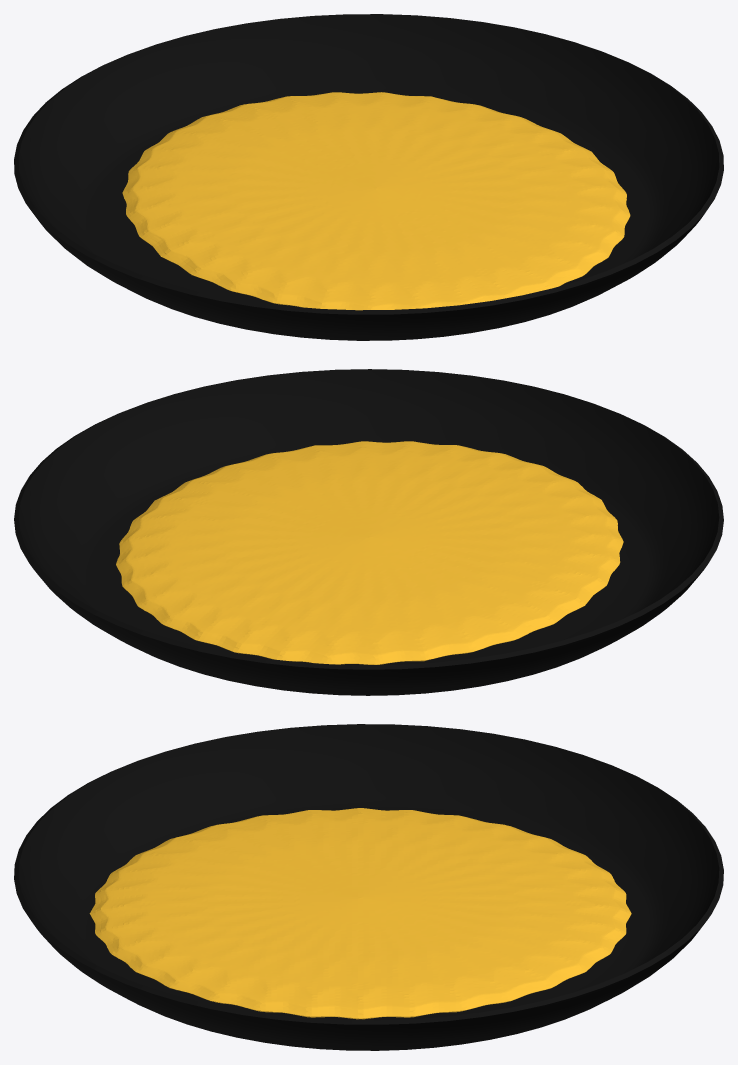
The model's file is Ovos Mexidos.fbx.
3 views of the same model, one above another, from view 1: azimuth 30°, elevation 25°; view 2: azimuth 150°, elevation 25°; view 3: azimuth 270°, elevation 25° (orthographic).
Parts seen in each view (by area): view 1: Pan, Cylinder; view 2: Pan, Cylinder; view 3: Pan, Cylinder.
Boxes of the visible parts, x1,y1,x2,y2 form: Pan: (14,14,723,340); Cylinder: (122,92,630,310); Pan: (14,369,723,695); Cylinder: (116,441,623,664); Pan: (14,724,723,1050); Cylinder: (89,808,631,1019).
Bounding box in the file's own units: 296 × 27.03 × 296.
